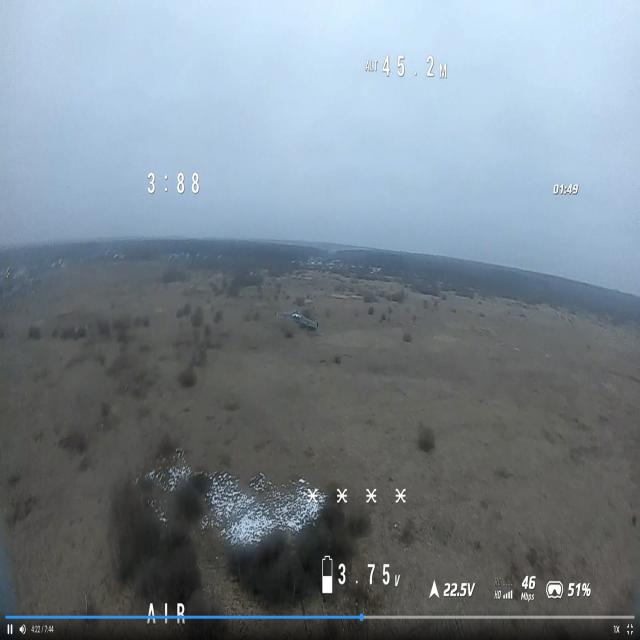planedrone: (274, 302, 321, 336)
